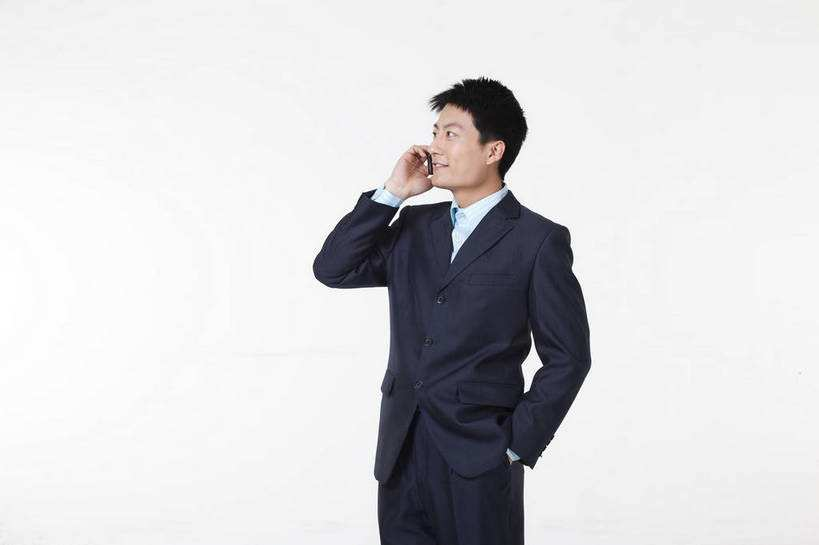calling: (383, 139, 446, 199)
